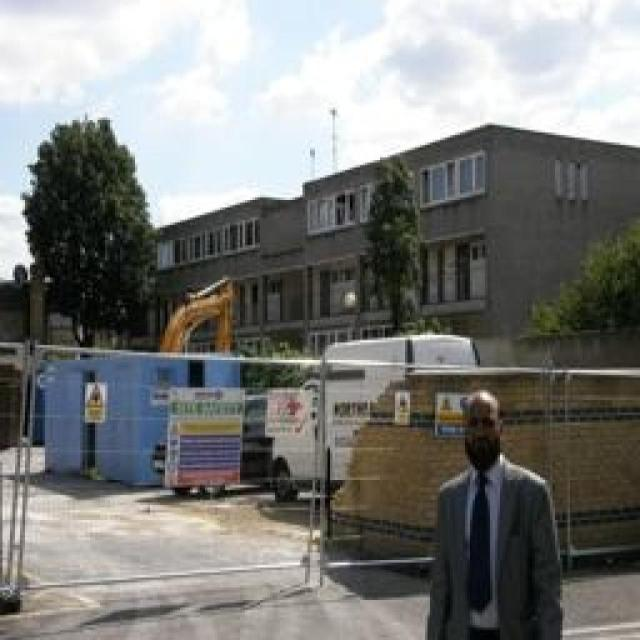Helmet: (404, 457, 584, 640), (438, 369, 524, 460)
